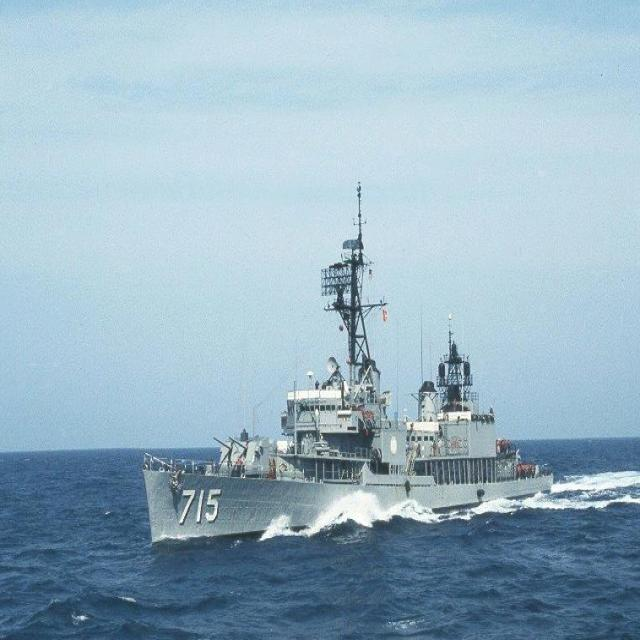navalvessels: (138, 183, 552, 538)
